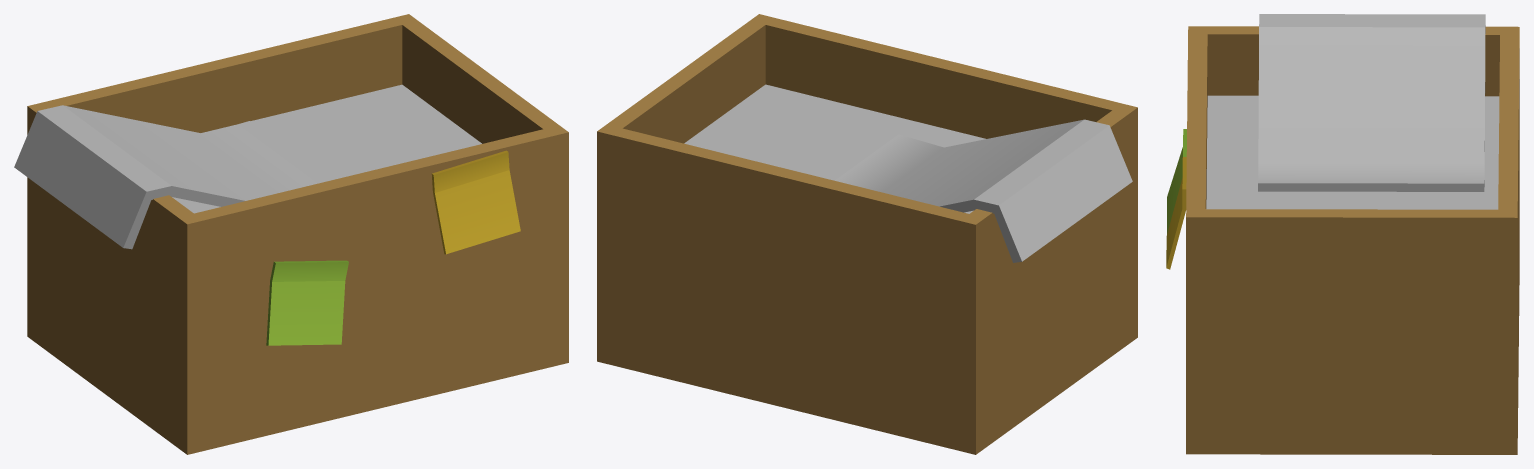
File: SO_Bookbox_02.fbx
3 views of the same model, side by side, from view 1: azimuth 30°, elevation 25°; view 2: azimuth 150°, elevation 25°; view 3: azimuth 270°, elevation 25° (orthographic). The views are drawn at different scales.
Visible parts, largest first — view 1: SO_Bookbox_02; view 2: SO_Bookbox_02; view 3: SO_Bookbox_02.
Boxes of the visible parts, x1=… form: SO_Bookbox_02: x1=14, y1=14, x2=568, y2=454; SO_Bookbox_02: x1=597, y1=14, x2=1137, y2=454; SO_Bookbox_02: x1=1166, y1=14, x2=1519, y2=454.
Bounding box in the file's own units: 1.07 × 0.597 × 0.7767.
